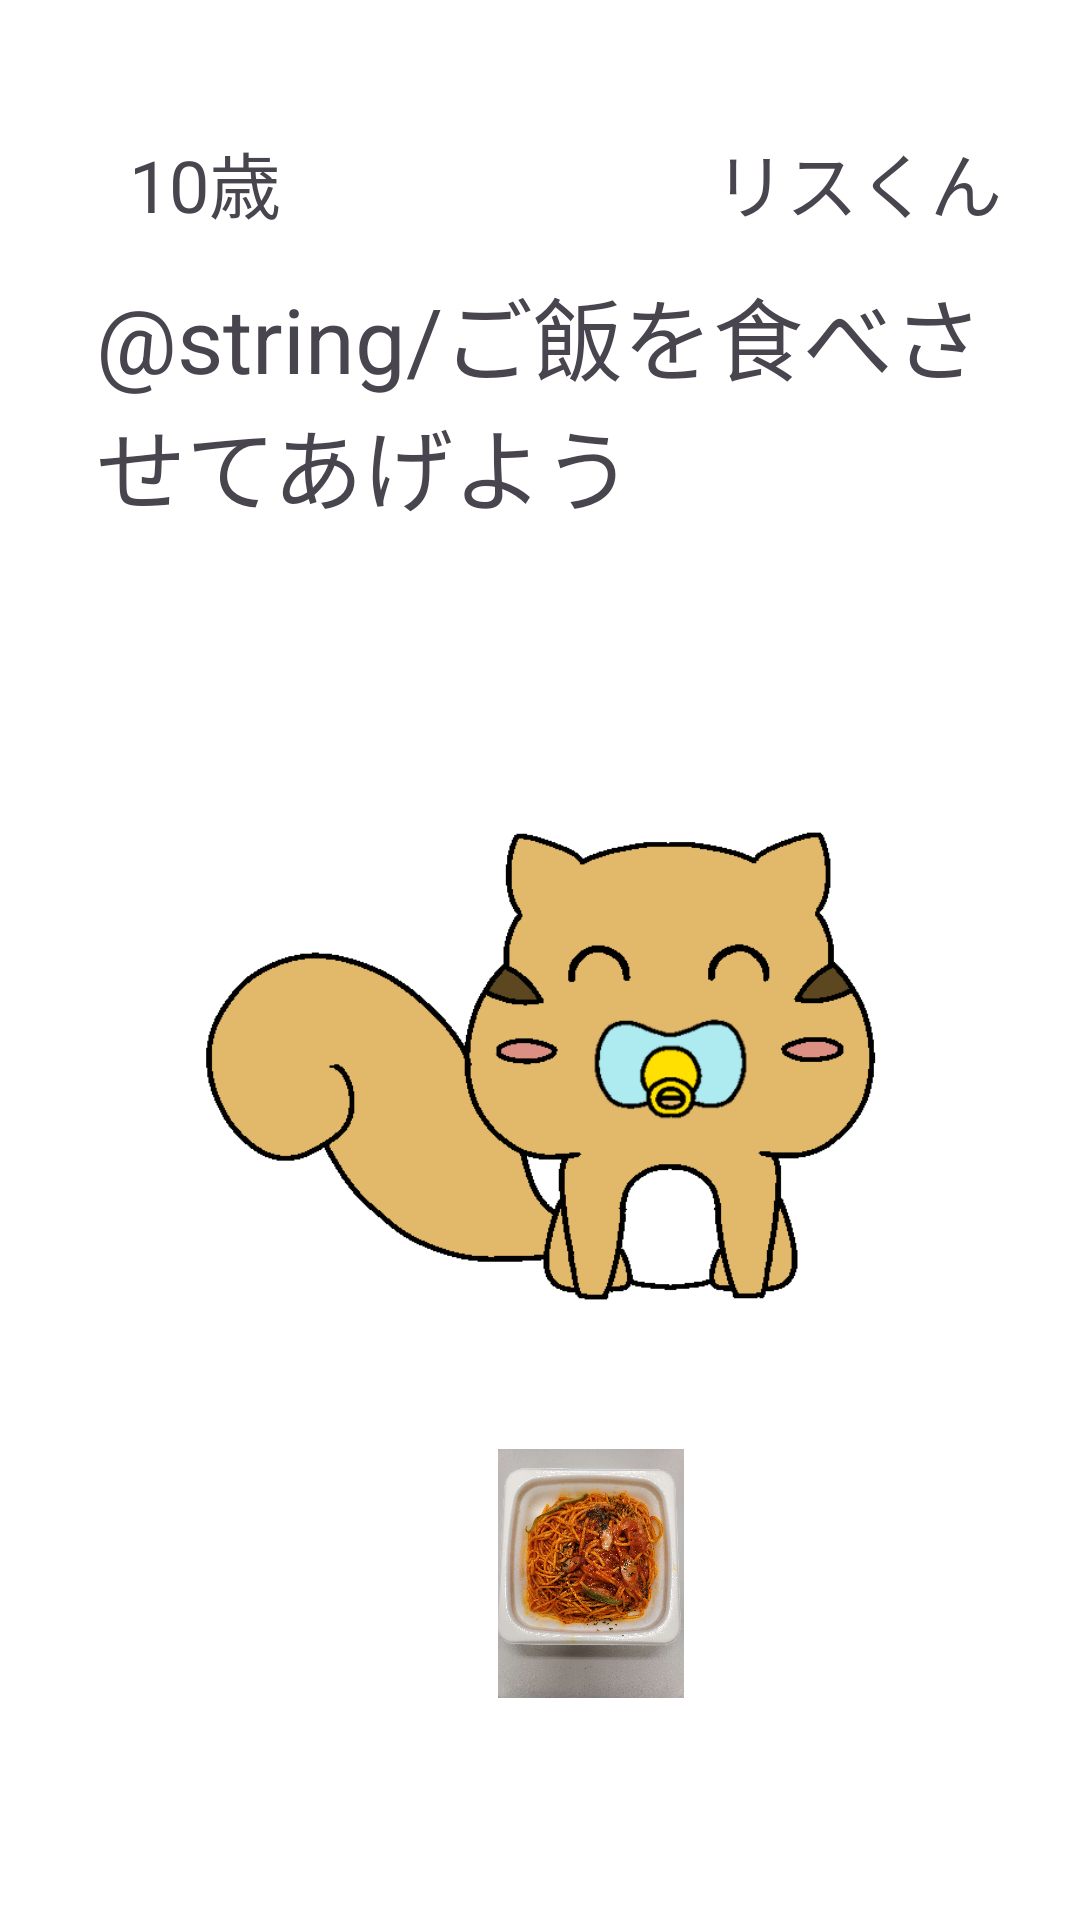

Screen size 1080px x 1920px. Icon name, then its box in pixels as (x1, y1, x2, y2):
pasuta: (498, 1449, 684, 1698)
